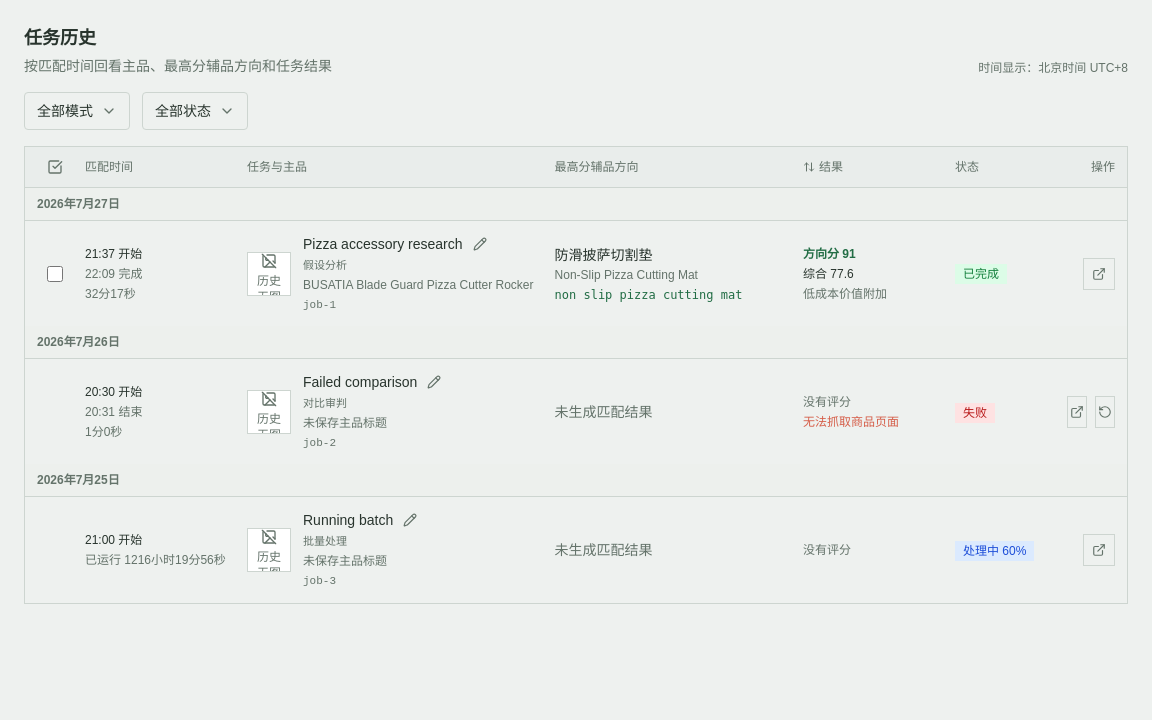
Test: filters by mode
Expected: the text "job-1" is shown, [303,299,336,311]
Click the button "全部模式" at (77, 111), box [24,92,130,130]
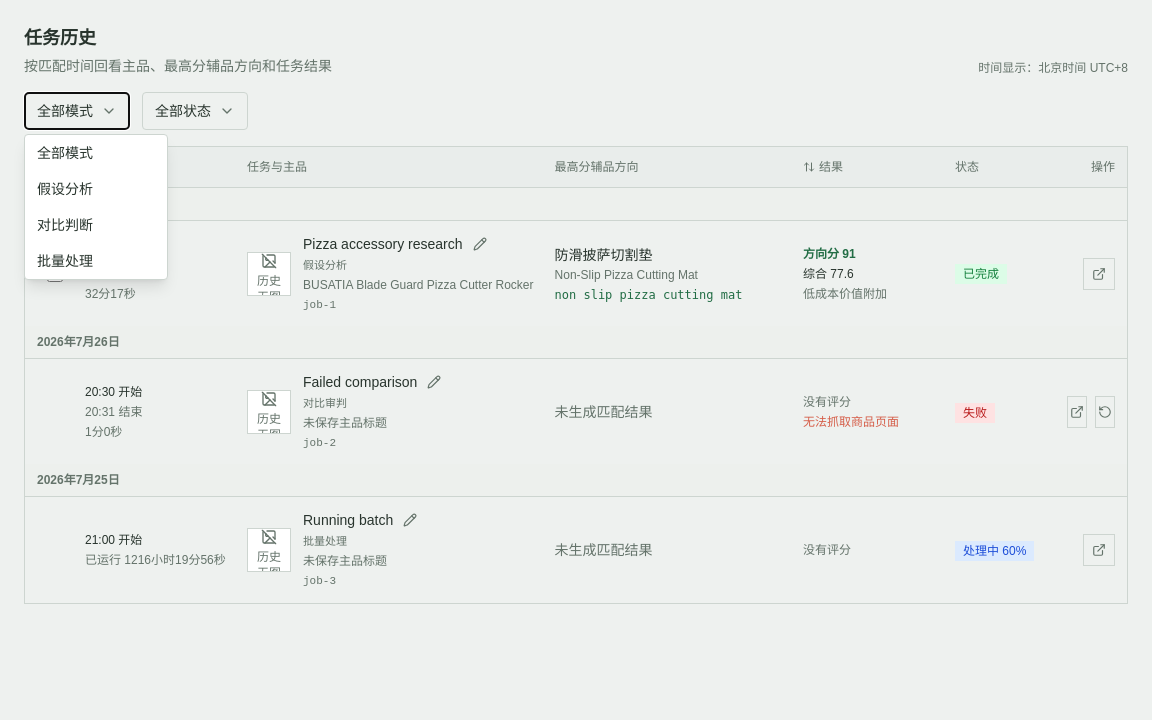
Click the option "假设分析" at (96, 189), box [25,171,167,207]
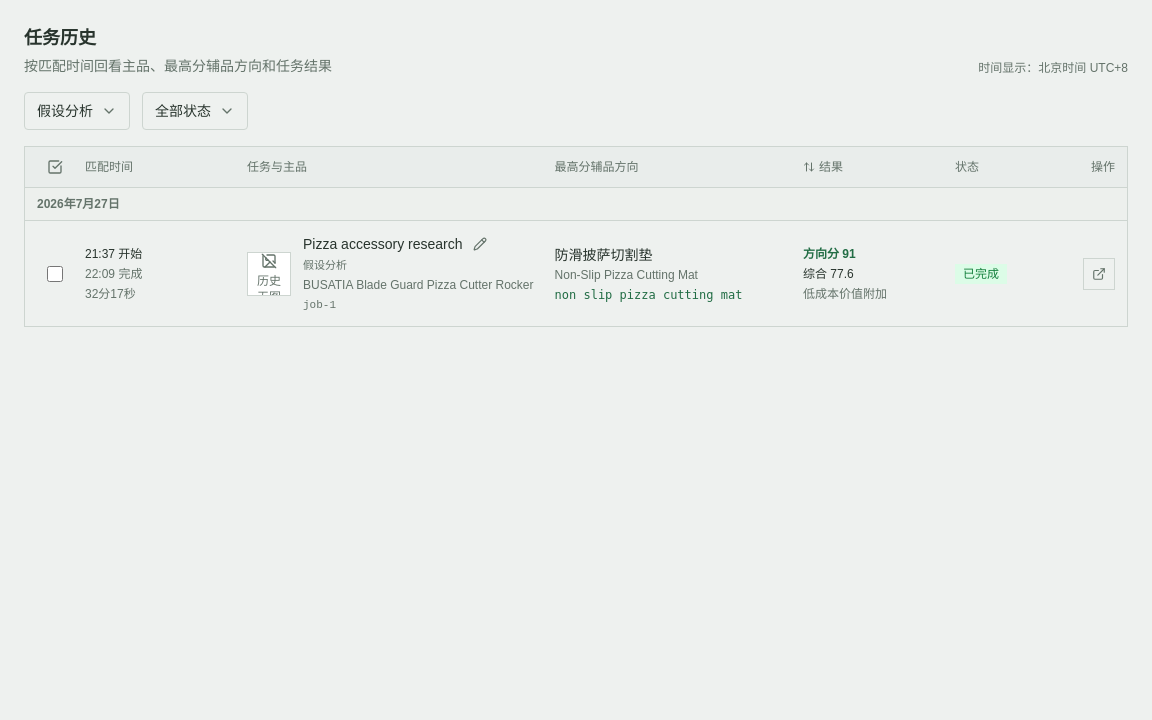
Expected: the text "job-1" is shown, [303,299,336,311]
Expected: the link "job-2" is gone
